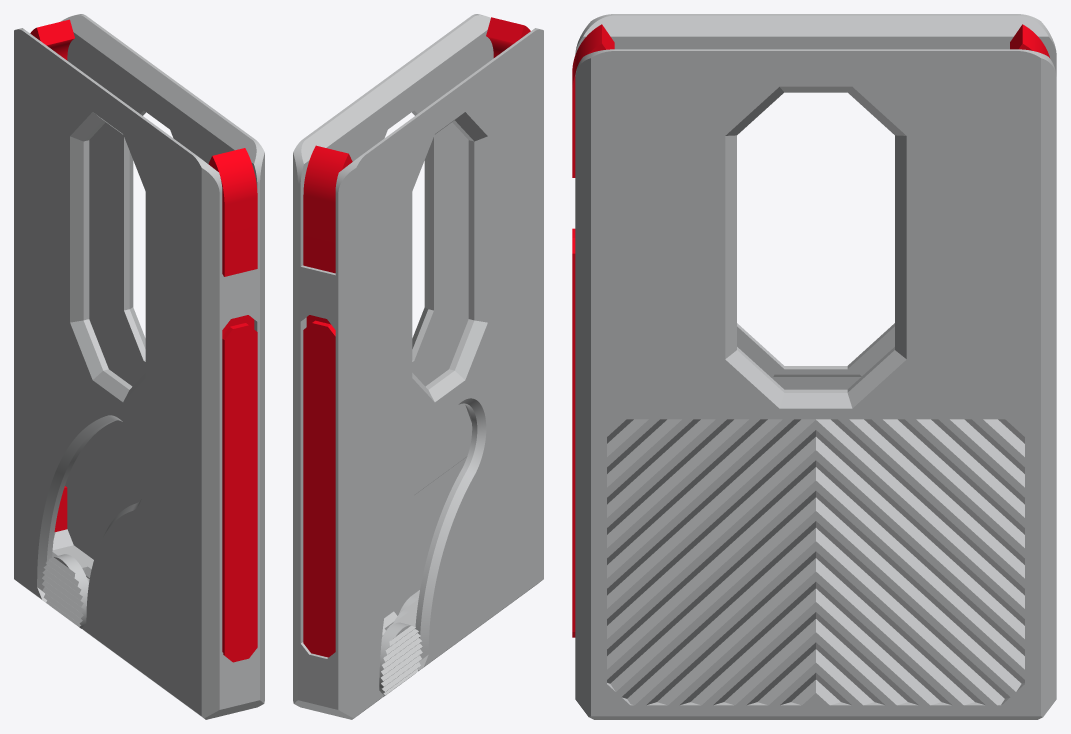
File: card holder.glb
3 renders of one model, left to right at view 1: azimuth 30°, elevation 25°; view 2: azimuth 150°, elevation 25°; view 3: azimuth 270°, elevation 25°, orthographic. The views are drawn at different scales.
Parts seen in each view (by area): view 1: 8 kort, 7 kort.001, SOLID, 7 kort; view 2: 8 kort, 7 kort, SOLID, 7 kort.001; view 3: 8 kort, 7 kort.001.
Boxes of the visible parts, x1,y1,x2,y2 form: 8 kort: (14,14,264,719); 7 kort.001: (208,148,257,662); SOLID: (42,554,89,628); 7 kort: (30,19,74,531); 8 kort: (293,14,543,719); 7 kort: (303,145,352,657); SOLID: (379,590,422,696); 7 kort.001: (486,17,530,57); 8 kort: (575,14,1056,719); 7 kort.001: (572,24,614,637).
Size of the model in its own units: 0.0111 by 0.094 by 0.0614.
